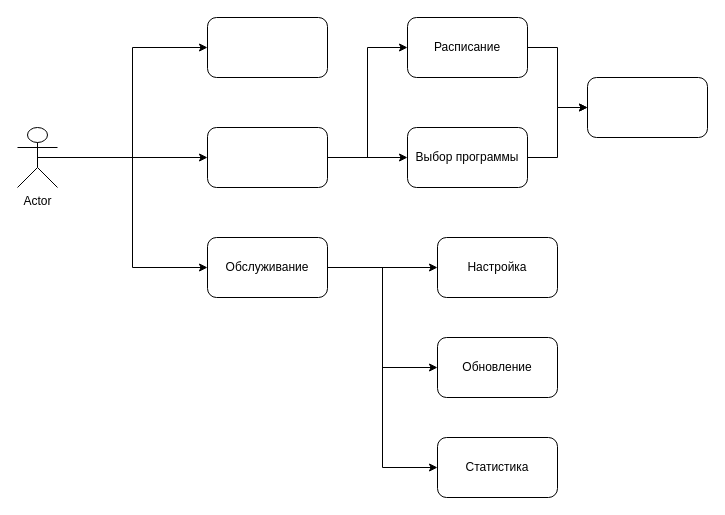
Some shapes in this 725 by 515 pixel diagram are drawn without their labels. The centre of each missing label's shape, as x and y in pixels:
График: the point at 647,107
Подключение: the point at 267,47
Уборка: the point at 267,157
